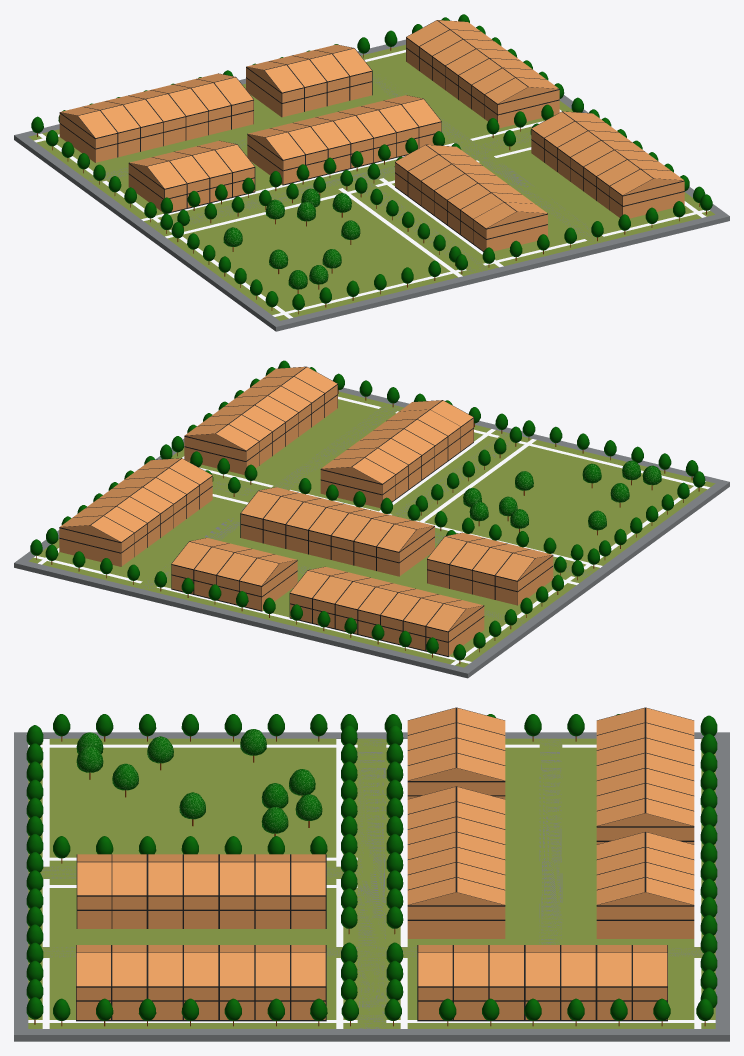
File: 450_townhomes_B.dae
The picture shows the model from 3 angles, top to bottom: view 1: azimuth 30°, elevation 25°; view 2: azimuth 150°, elevation 25°; view 3: azimuth 270°, elevation 25°; orthographic projection. The views are drawn at different scales.
Parts seen in each view (by area): view 1: group_2 (×15), Component_2 (×49); view 2: group_2 (×14), Component_2 (×49); view 3: group_2 (×12), Component_2 (×85), Tree_z_Icon_3_1 (×9).
Boxes of the visible parts, bbox=[...] form: group_2 (×15): bbox=[14, 39, 729, 331]; Component_2 (×49): bbox=[78, 20, 684, 251]; group_2 (×14): bbox=[14, 387, 729, 678]; Component_2 (×49): bbox=[59, 367, 534, 631]; group_2 (×12): bbox=[14, 732, 729, 1041]; Component_2 (×85): bbox=[76, 708, 694, 1019]; Tree_z_Icon_3_1 (×9): bbox=[76, 729, 322, 833].
Bounding box in the file's own units: 97.5 × 97.5 × 8.
